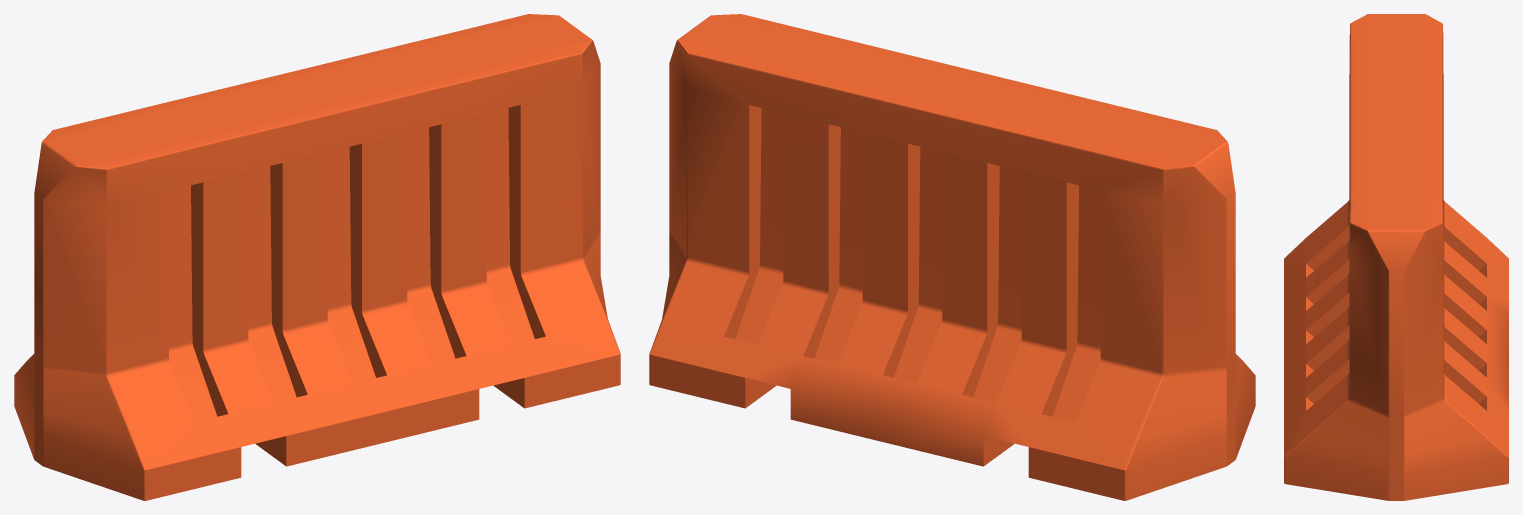
The model's file is barrierGame 1.fbx.
3 renders of one model, left to right at view 1: azimuth 30°, elevation 25°; view 2: azimuth 150°, elevation 25°; view 3: azimuth 270°, elevation 25°, orthographic. The views are drawn at different scales.
Visible parts, largest first — view 1: Stkm_WorkSet_TrafficBarrier; view 2: Stkm_WorkSet_TrafficBarrier; view 3: Stkm_WorkSet_TrafficBarrier.
Boxes of the visible parts, x1=… form: Stkm_WorkSet_TrafficBarrier: x1=14, y1=14, x2=620, y2=500; Stkm_WorkSet_TrafficBarrier: x1=649, y1=14, x2=1255, y2=500; Stkm_WorkSet_TrafficBarrier: x1=1284, y1=14, x2=1508, y2=500.
Bounding box in the file's own units: 509 × 266 × 207.
